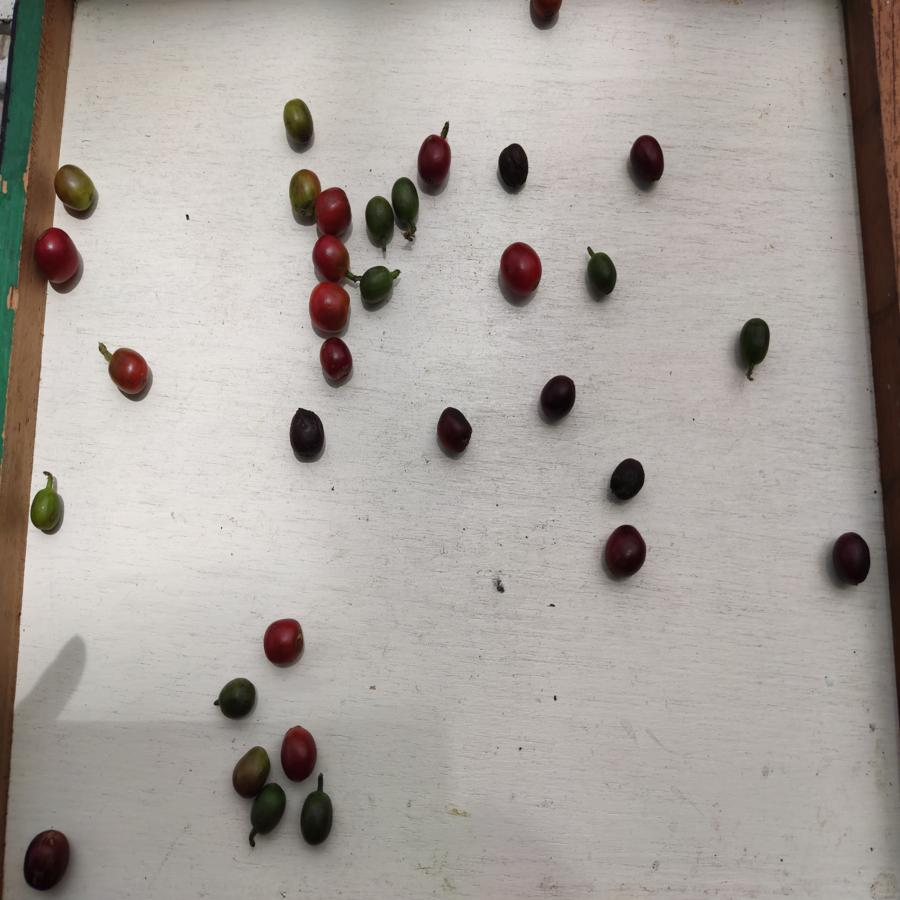Inmaduro: (214, 677, 256, 721), (300, 790, 333, 845), (738, 316, 771, 367), (253, 783, 286, 832), (584, 251, 618, 298), (29, 487, 63, 533), (359, 264, 394, 307), (392, 175, 420, 223), (365, 196, 394, 242)
Maduro: (33, 228, 80, 286), (497, 240, 544, 297), (308, 280, 355, 335), (105, 347, 152, 397), (262, 618, 305, 668), (314, 187, 352, 235), (312, 235, 352, 280)
Pinton: (51, 160, 96, 214), (229, 742, 274, 784), (282, 98, 317, 146), (288, 168, 315, 223)
Sobremaduro: (22, 829, 71, 890), (831, 530, 872, 588), (603, 524, 647, 578), (281, 726, 319, 782), (288, 408, 326, 463), (416, 133, 453, 187), (628, 133, 667, 184), (538, 374, 577, 419), (436, 406, 473, 453), (497, 142, 532, 191), (608, 458, 645, 500), (319, 336, 352, 380)
